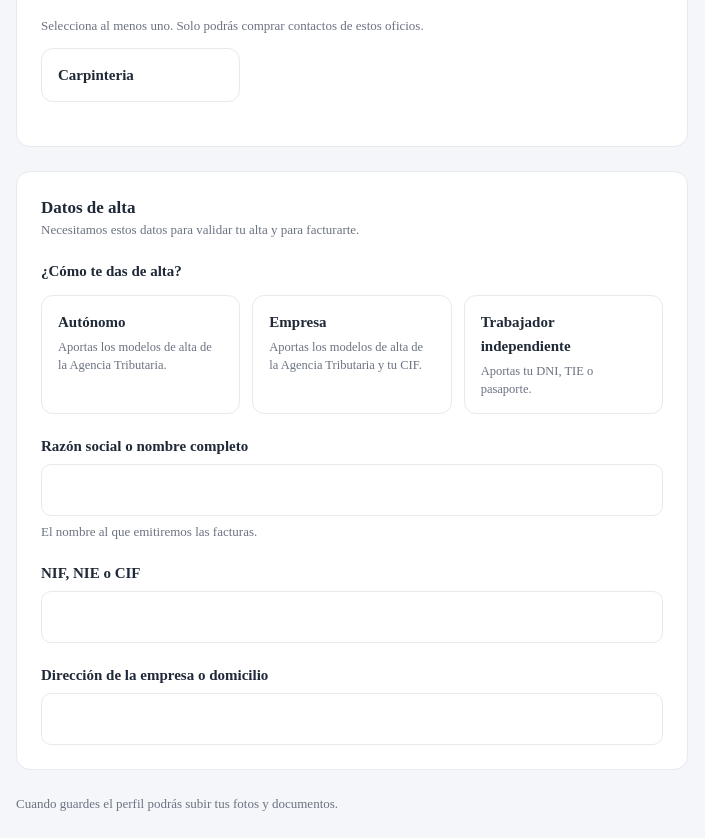
Test: ProfileForm: errores al guardar › flags an invalid tax id as soon as the user leaves the field
(page scrolled)
In the field labelled "NIF, NIE o CIF": (352, 617) x1=41 y1=591 x2=663 y2=643, type "123"
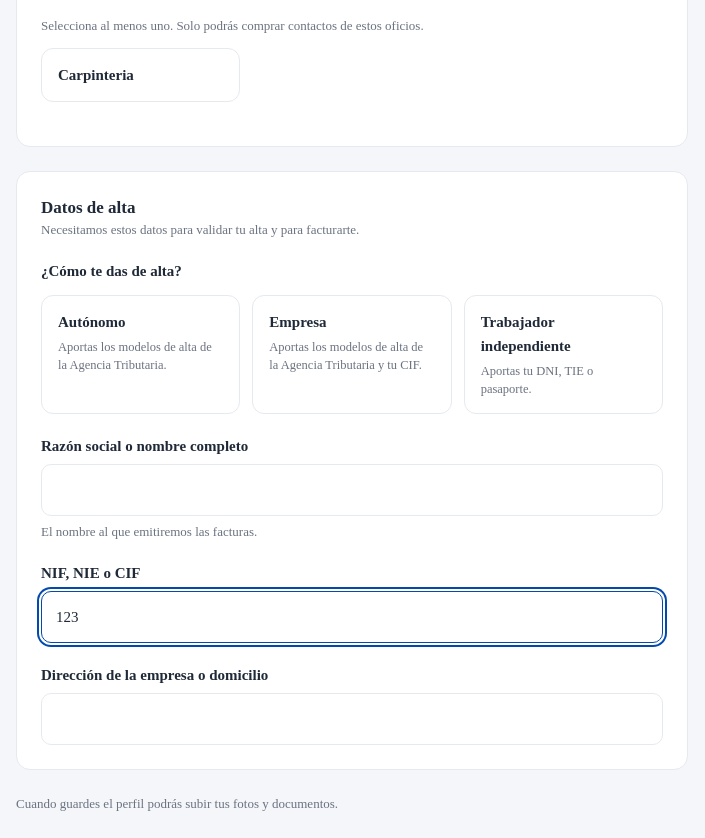
Press Tab
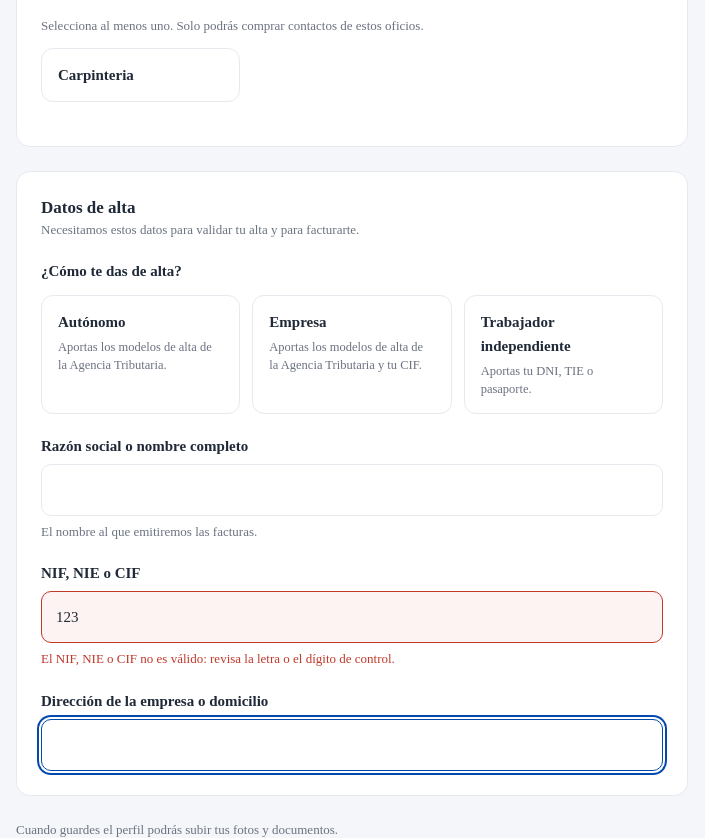
Check: the text "El NIF, NIE o CIF no es válido: revisa la letra o el dígito de control." is shown, box x1=41 y1=651 x2=395 y2=666
